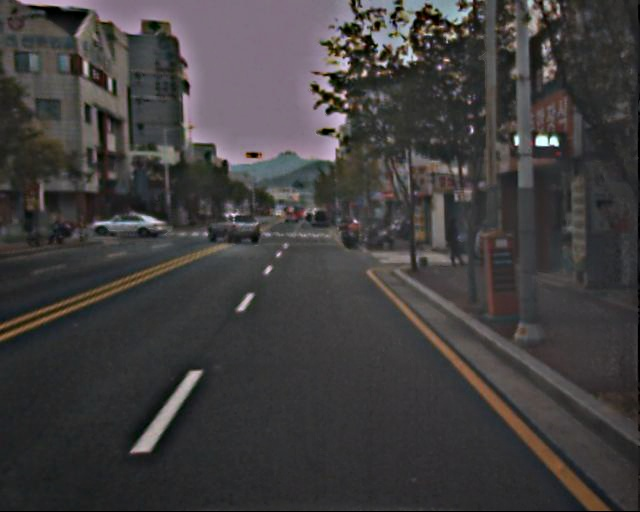person: (446, 217, 467, 267)
